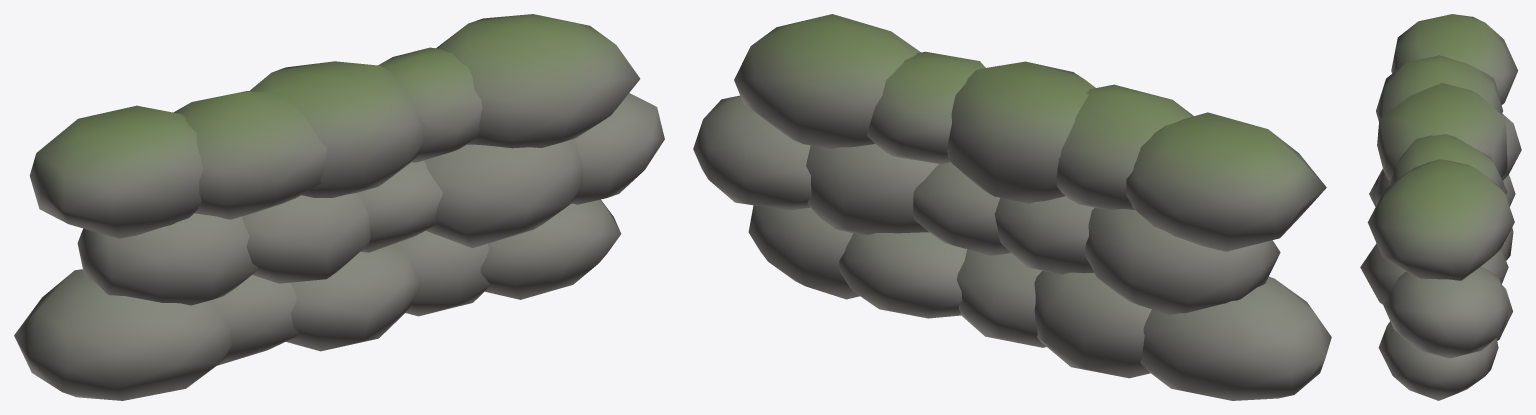
The model's file is fence_stone_field_wall.glb.
The picture shows the model from 3 angles, left to right: view 1: azimuth 30°, elevation 25°; view 2: azimuth 150°, elevation 25°; view 3: azimuth 270°, elevation 25°; orthographic projection. The views are drawn at different scales.
Parts seen in each view (by area): view 1: wall_stone_stone; view 2: wall_stone_stone; view 3: wall_stone_stone.
Boxes of the visible parts, x1,y1,x2,y2 form: wall_stone_stone: [14, 14, 664, 400]; wall_stone_stone: [693, 14, 1331, 400]; wall_stone_stone: [1360, 14, 1521, 400].
Bounding box in the file's own units: 2.55 × 1.06 × 0.7093.
Materials: 1 (1 with a texture image).
